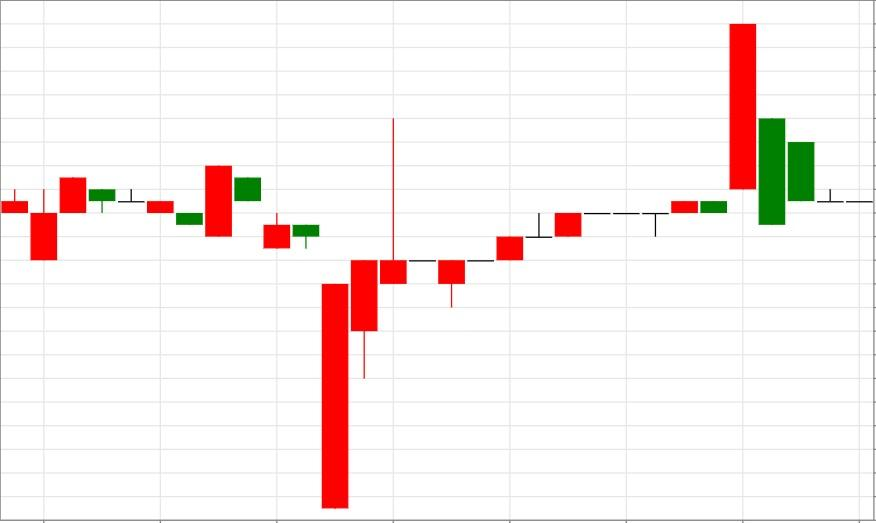bullish_engulfing_rise: (59, 165, 233, 237)
